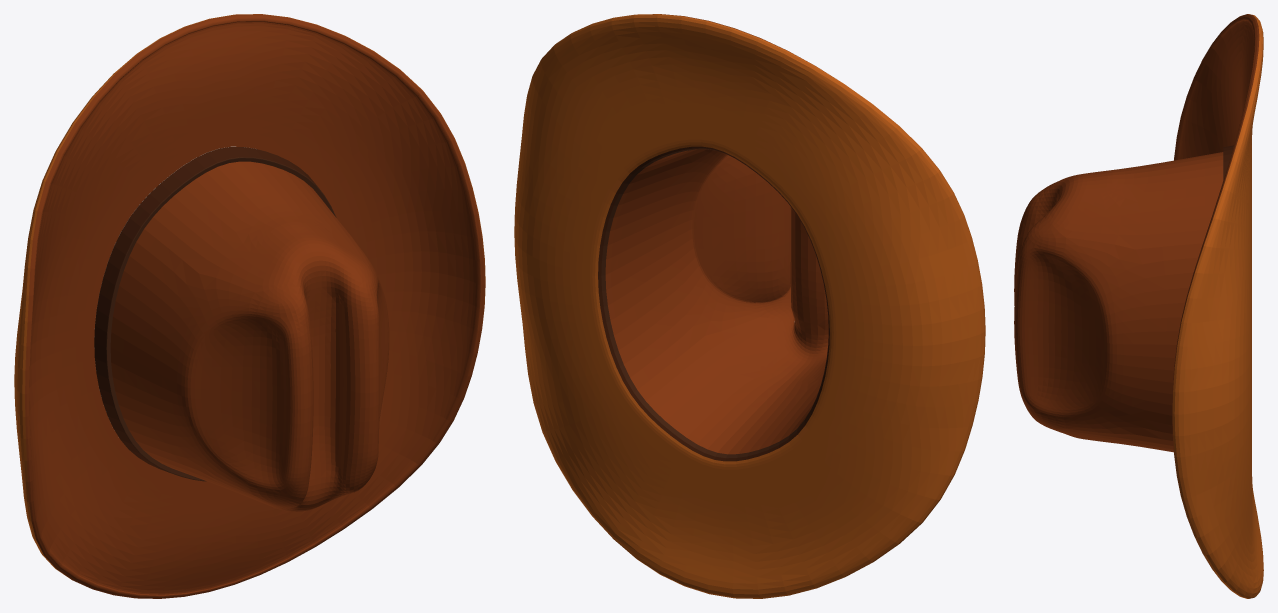
The model's file is Cowboy Hat versie 2.obj.
3 views of the same model, side by side, from view 1: azimuth 30°, elevation 25°; view 2: azimuth 150°, elevation 25°; view 3: azimuth 270°, elevation 25° (orthographic). The views are drawn at different scales.
Visible parts, largest first — view 1: Object.1, Object.2; view 2: Object.1; view 3: Object.1.
Boxes of the visible parts, left/top/right/bottom form: Object.1: left=14, top=14, right=485, bottom=598; Object.2: left=94, top=146, right=336, bottom=481; Object.1: left=514, top=14, right=985, bottom=598; Object.1: left=1014, top=14, right=1263, bottom=598.
Bounding box in the file's own units: 39.04 × 45.92 × 19.23.
